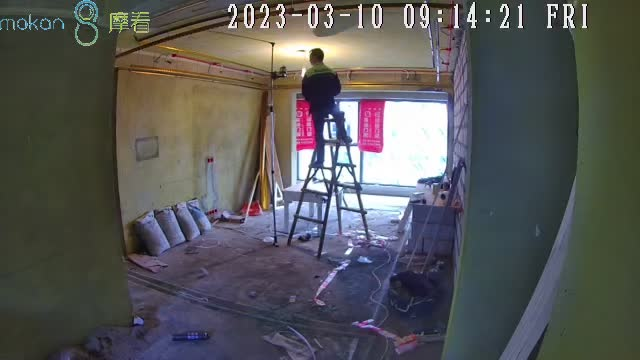people: (302, 47, 351, 167)
window: (296, 94, 448, 187)
